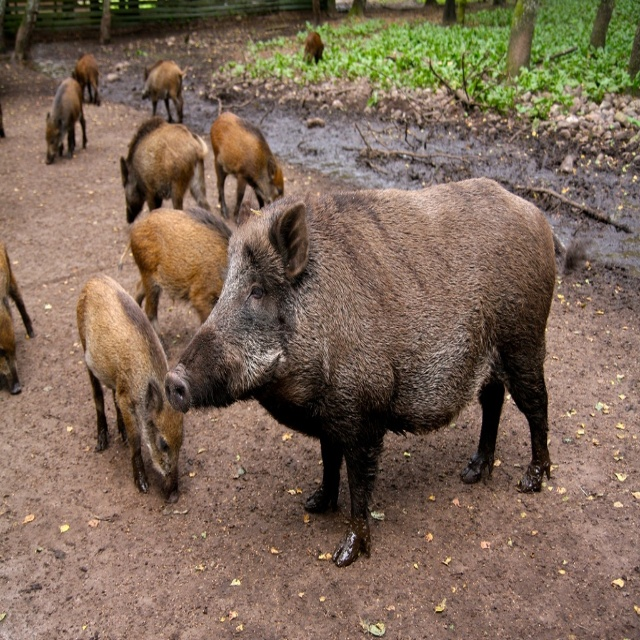Pig: (165, 189, 557, 570), (76, 270, 185, 504), (117, 208, 229, 349), (120, 117, 208, 225), (208, 110, 286, 226), (0, 232, 36, 397), (46, 76, 86, 162), (140, 60, 182, 125), (72, 53, 101, 104), (301, 32, 326, 65)
